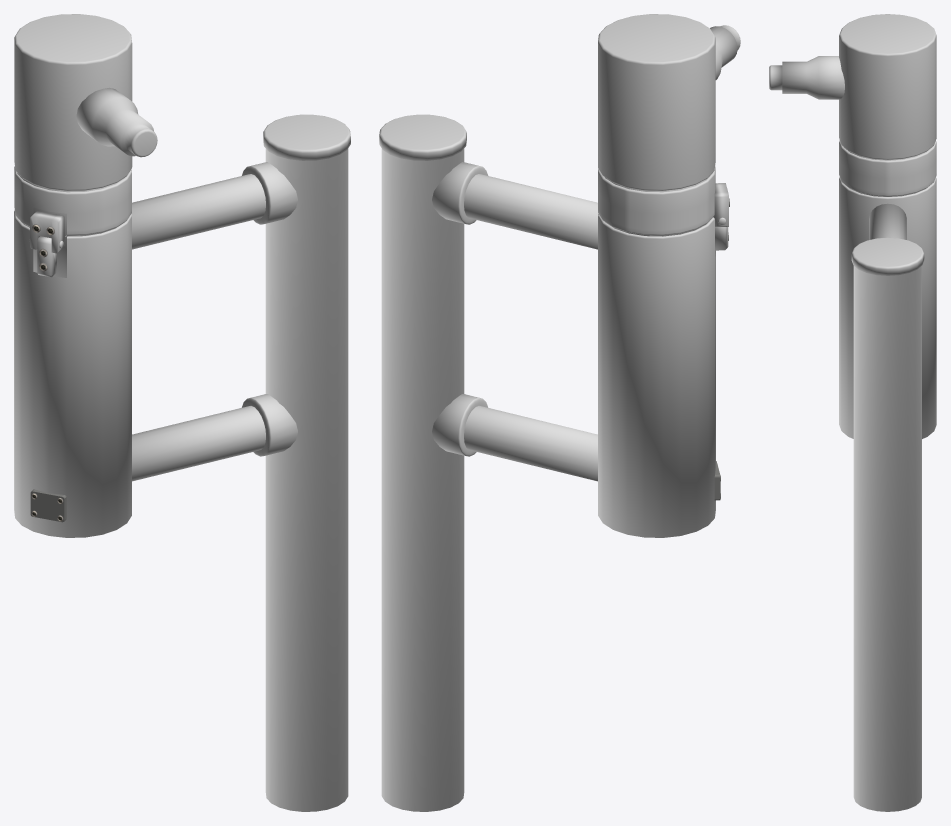
3 renders of one model, left to right at view 1: azimuth 30°, elevation 25°; view 2: azimuth 150°, elevation 25°; view 3: azimuth 270°, elevation 25°, orthographic. The views are drawn at different scales.
Visible parts, largest first — view 1: 柱子, 金屬, 上, 螺絲2, 下; view 2: 柱子, 金屬; view 3: 柱子.
Part boxes in pixels (bbox=[...]): 柱子: bbox=[14, 14, 350, 811]; 金屬: bbox=[242, 166, 271, 456]; 上: bbox=[30, 210, 64, 253]; 螺絲2: bbox=[30, 489, 66, 522]; 下: bbox=[37, 236, 56, 277]; 柱子: bbox=[379, 14, 740, 811]; 金屬: bbox=[458, 166, 488, 456]; 柱子: bbox=[769, 14, 936, 811].
Bounding box in the file's own units: 32.15 × 75.79 × 17.16.
2 materials, 1 textured.
